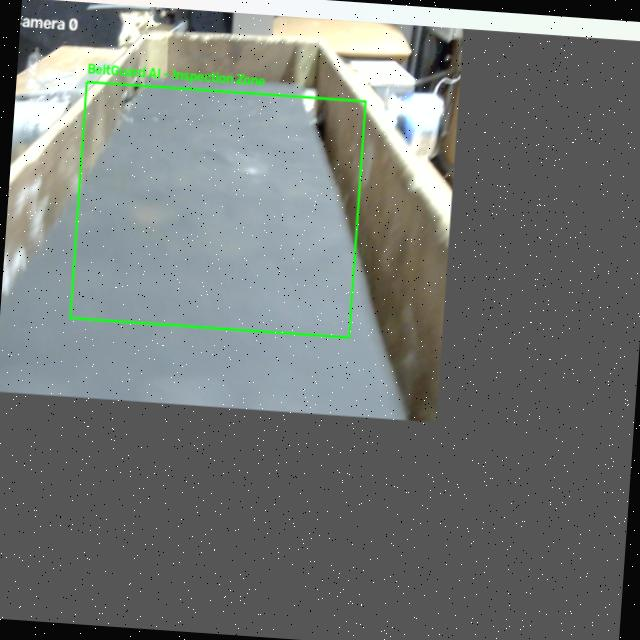Joint_Damage: (204, 150, 292, 202), (120, 107, 178, 124)
